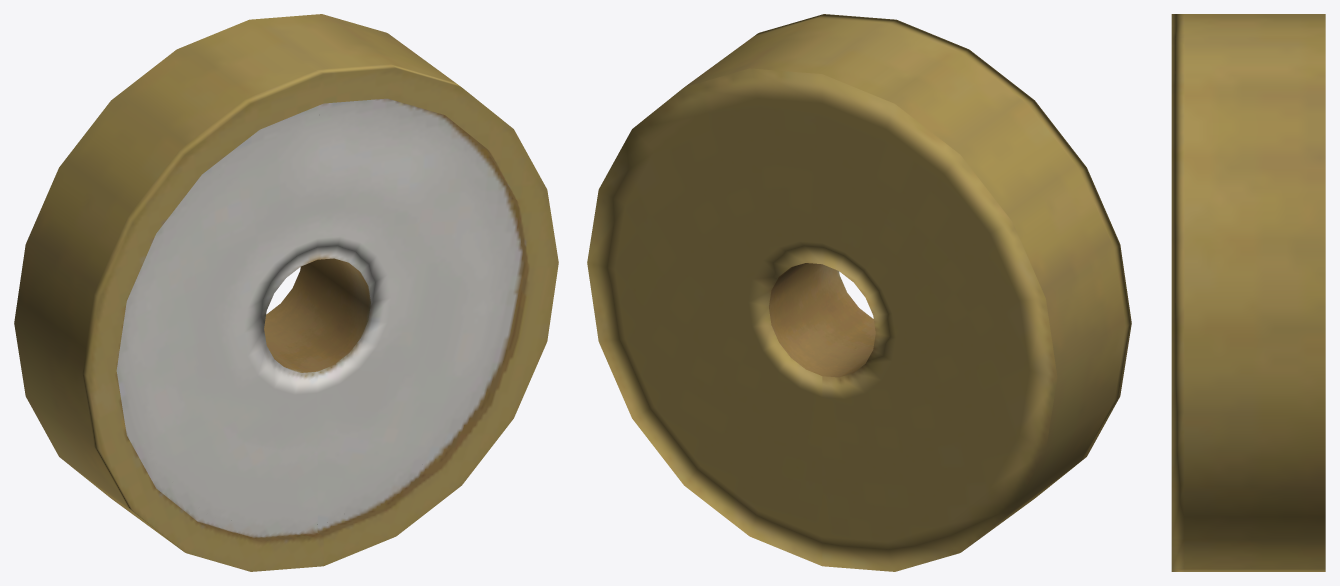
Rendered from clock.fbx.
3 views of the same model, side by side, from view 1: azimuth 30°, elevation 25°; view 2: azimuth 150°, elevation 25°; view 3: azimuth 270°, elevation 25° (orthographic). The views are drawn at different scales.
Visible parts, largest first — view 1: tile8_s5; view 2: tile8_s5; view 3: tile8_s5.
Boxes of the visible parts, left/top/right/bottom form: tile8_s5: left=14, top=14, right=558, bottom=571; tile8_s5: left=587, top=14, right=1131, bottom=571; tile8_s5: left=1171, top=14, right=1325, bottom=571.
Bounding box in the file's own units: 43.5 × 43.5 × 12.78.
